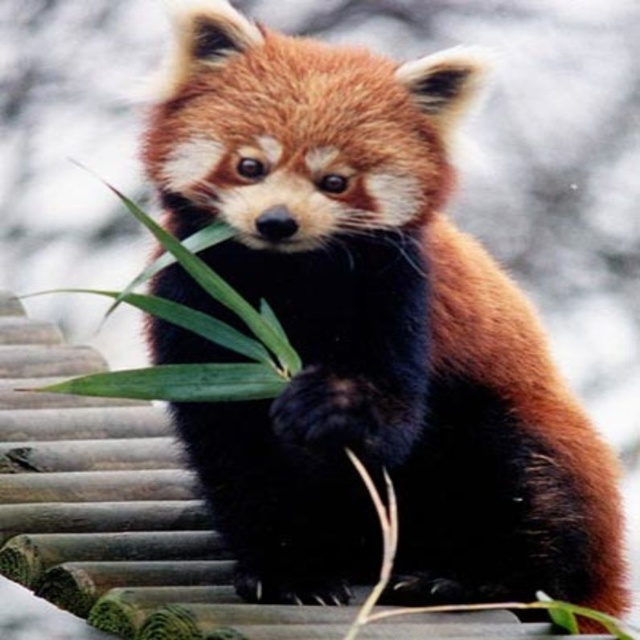Red panda: (125, 0, 640, 640)
